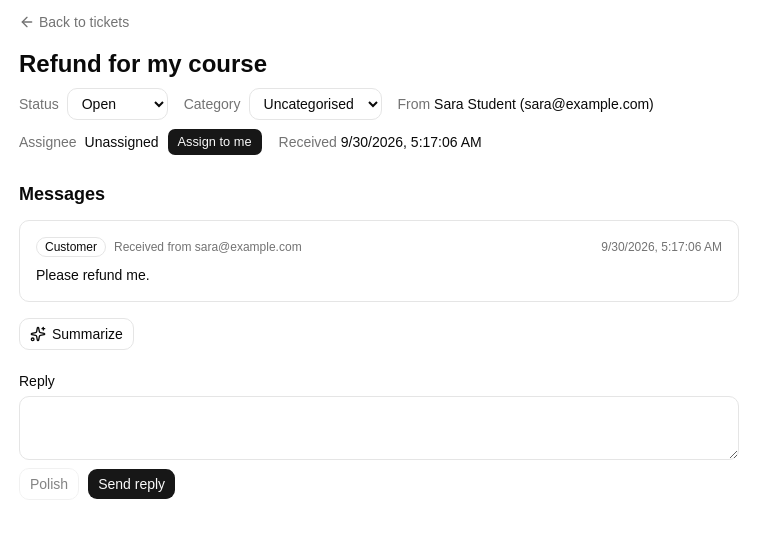
Test: TicketDetailPage › replying › shows the polish error and keeps the draft
The image size is (759, 548).
Type "Hello" into the text box labelled "Reply".
click(379, 428); type("Hello")  # box [19,396,739,460]
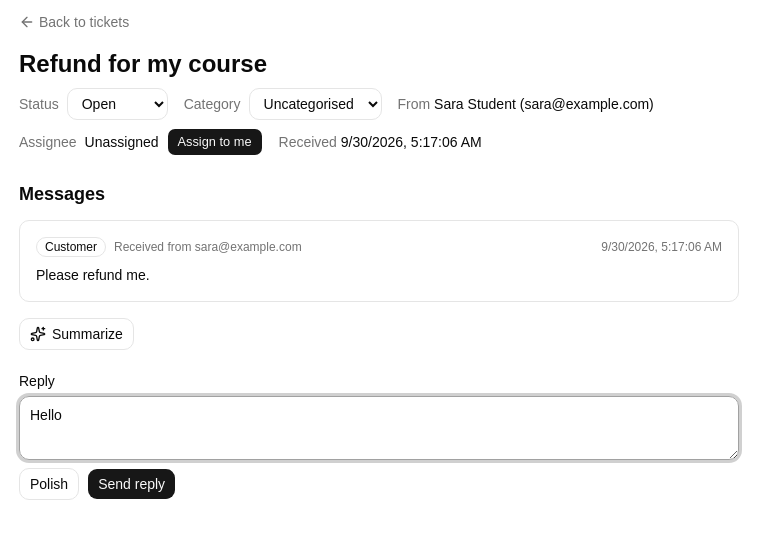
Click the button "Polish".
click(49, 484)  # box [19,468,79,500]
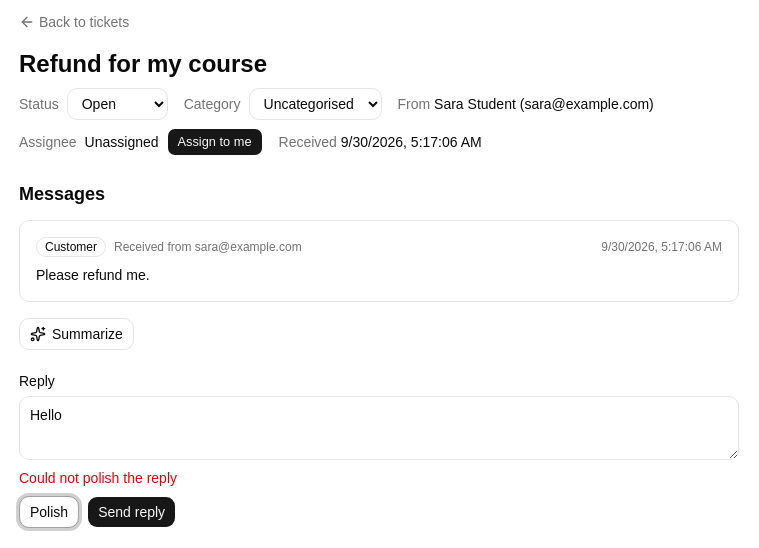
Expected: the message reads "Could not polish the reply", [19,470,177,486]
